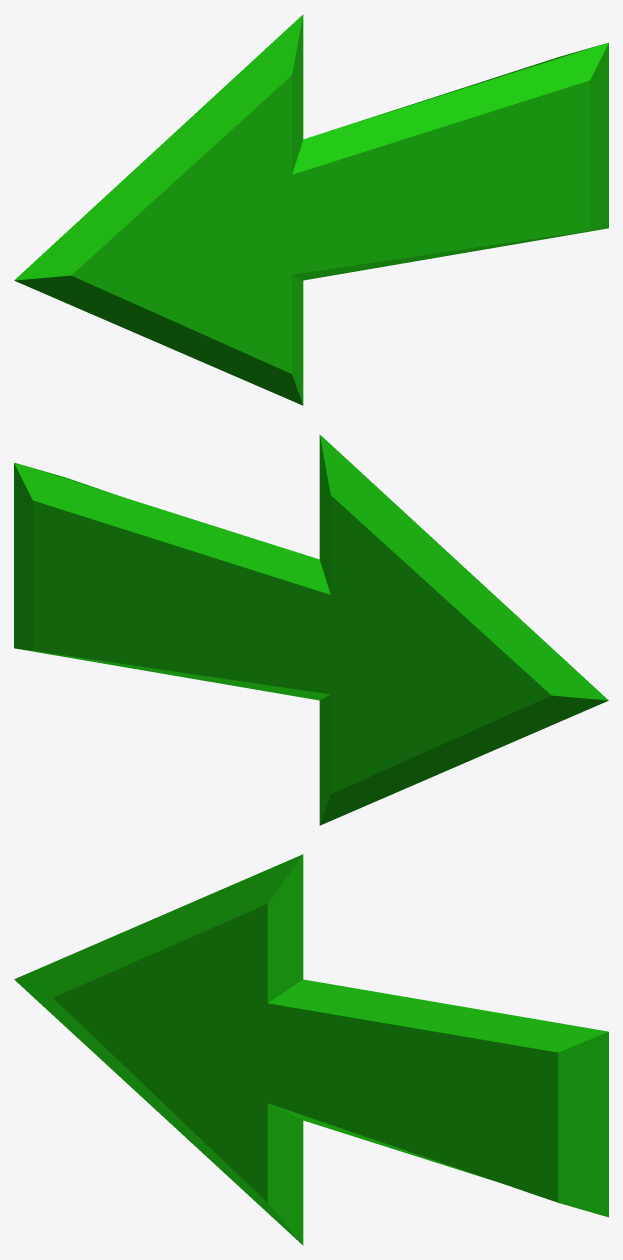
The model's file is Arrow.glb.
3 renders of one model, top to bottom at view 1: azimuth 30°, elevation 25°; view 2: azimuth 150°, elevation 25°; view 3: azimuth 330°, elevation 25°, orthographic.
Visible parts, largest first — view 1: Arrow; view 2: Arrow; view 3: Arrow.
Part boxes in pixels (left/top/right/bottom): Arrow: left=14, top=14, right=608, bottom=405; Arrow: left=14, top=434, right=608, bottom=825; Arrow: left=14, top=854, right=608, bottom=1245.
Bounding box in the file's own units: 1.84 × 1.16 × 0.1706.
